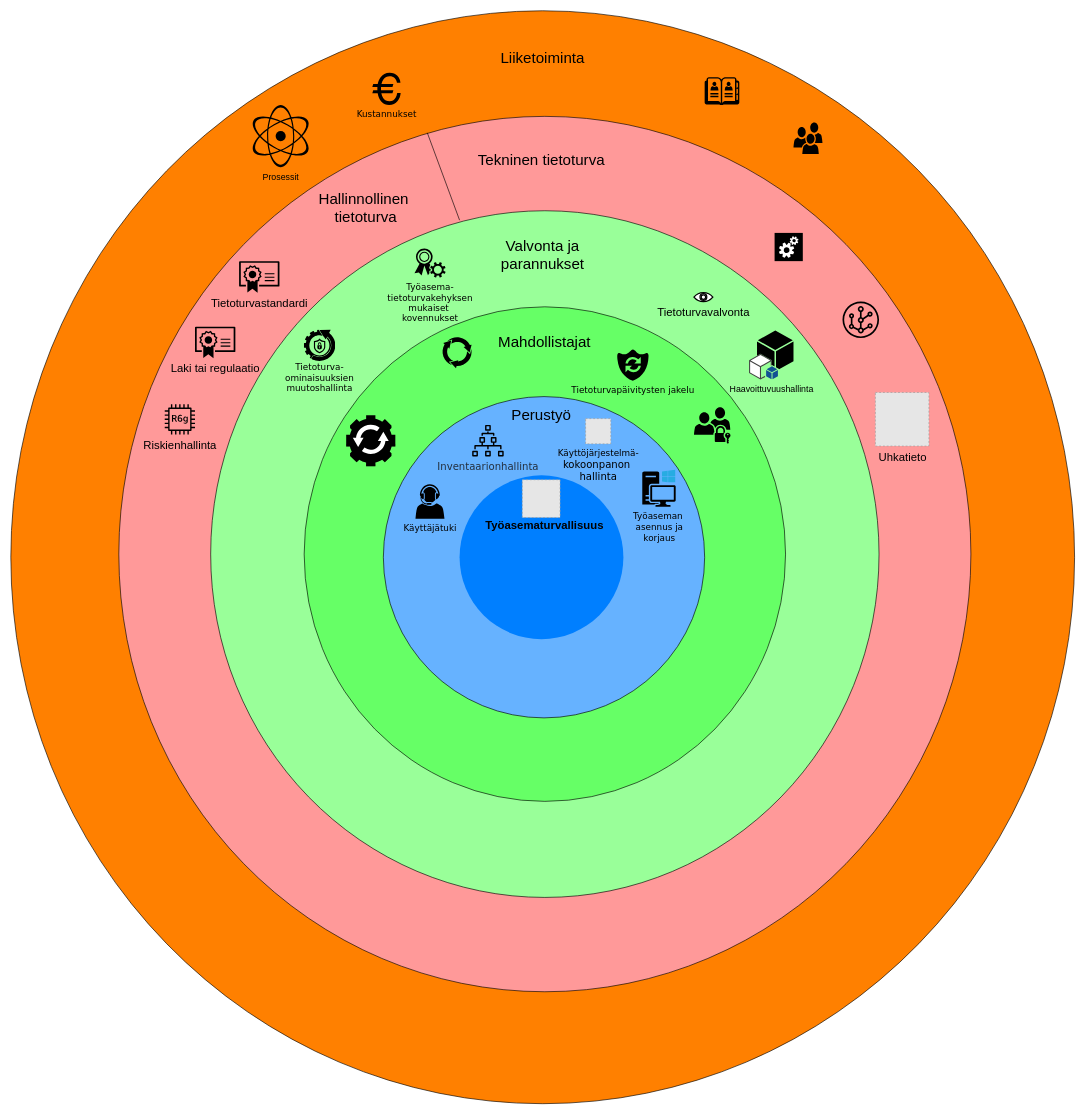
This 1086x1115 diagram has some shape labels left out. Grey dashed boxes stand in for pictures. The centre of each missing label's shape, as x and y in pixels:
Automaatio: the point at 370,440
Ohjelmisto- asennukset ja -päivitykset: the point at 457,352
Resurssit: the point at 807,138
Strategia: the point at 721,91
Tietoturvakoulutus: the point at 712,425
Tietoturvatestaus ja auditointi: the point at 788,247
Uhkametsästys: the point at 860,319
